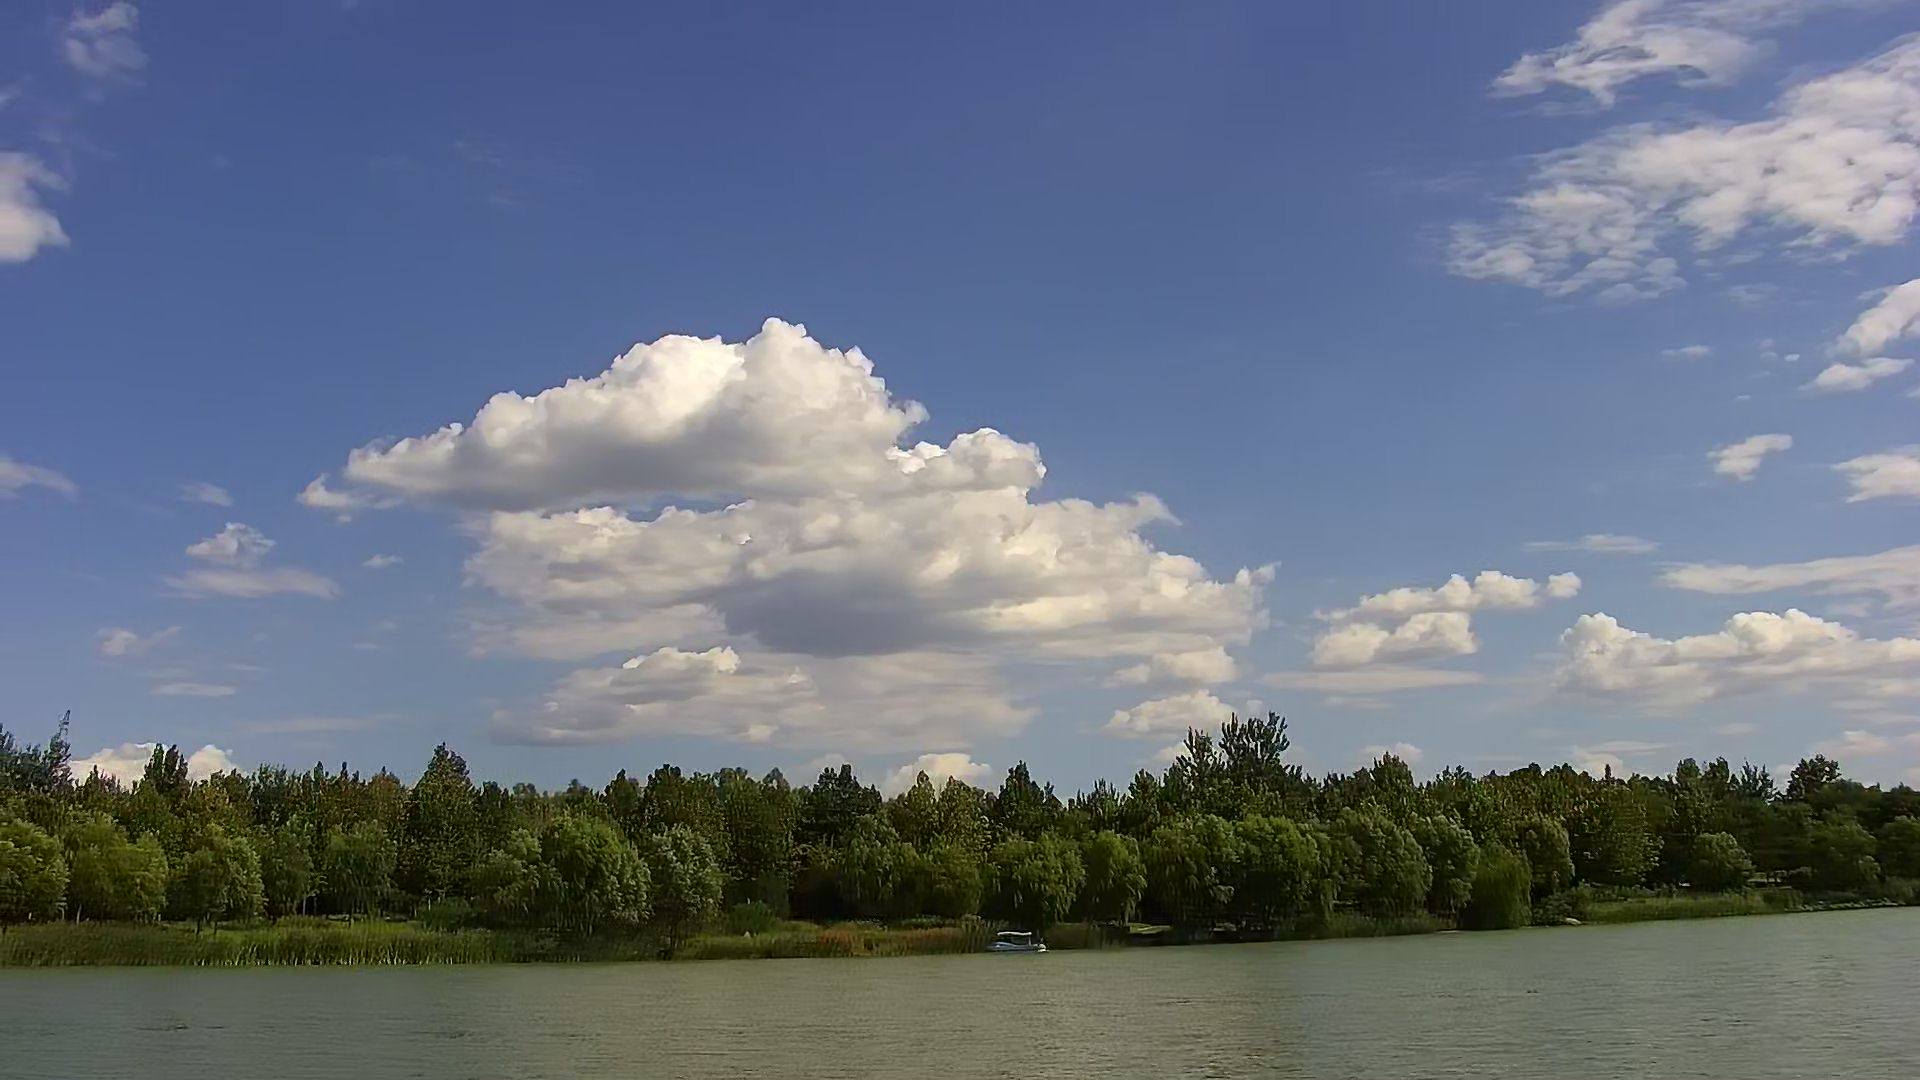boat: (980, 930, 1050, 957)
